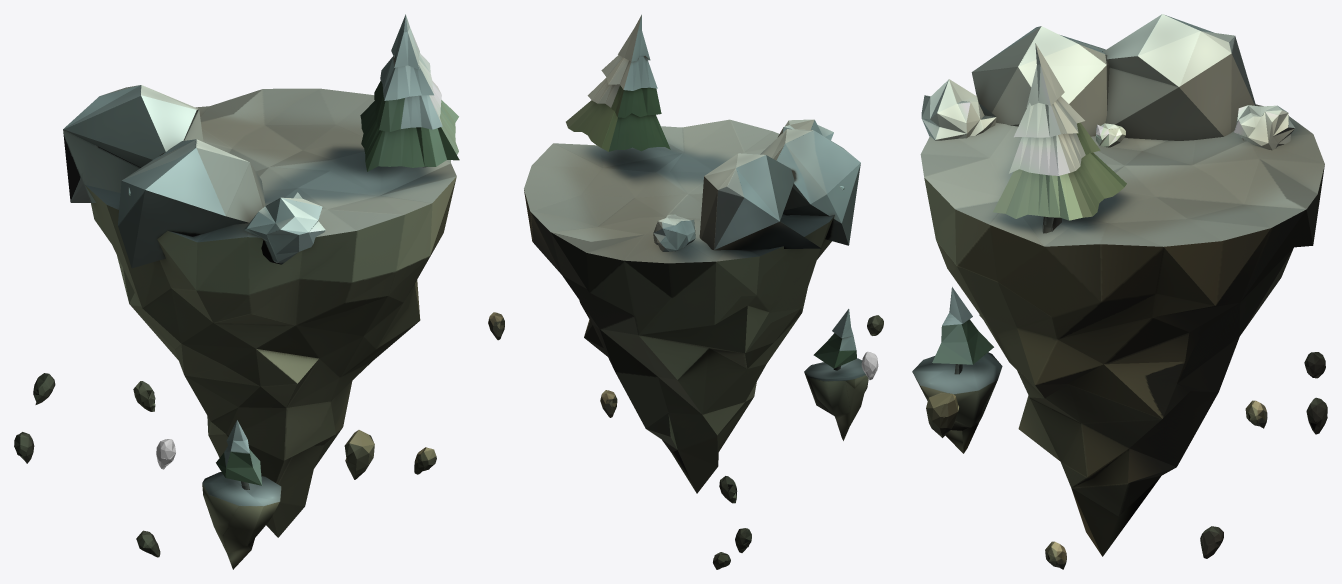
File: paperworld_platform_snow2.fbx
3 views of the same model, side by side, from view 1: azimuth 30°, elevation 25°; view 2: azimuth 150°, elevation 25°; view 3: azimuth 270°, elevation 25° (orthographic). The views are drawn at different scales.
Parts seen in each view (by area): view 1: ice2_ground, ice2_Polygon-Objekt.4, ice2_Polygon-Objekt.3, ice2_Tanne.2, ice2_ground.2, ice2_Polygon-Objekt.2, ice2_Tanne, ice2_Polygon-Objekt.15; view 2: ice2_ground, ice2_Polygon-Objekt.3, ice2_Tanne.2, ice2_Polygon-Objekt.4, ice2_ground.2, ice2_Tanne, ice2_Polygon-Objekt, ice2_Polygon-Objekt.2; view 3: ice2_ground, ice2_Polygon-Objekt.3, ice2_Tanne.2, ice2_Polygon-Objekt.4, ice2_ground.2, ice2_Polygon-Objekt.2, ice2_Tanne, ice2_Polygon-Objekt, ice2_Polygon-Objekt.15, ice2_Polygon-Objekt.5, ice2_Polygon-Objekt.9, ice2_Polygon-Objekt.10.
Boxes of the visible parts, box(x1,y1,x2,y2) form: ice2_ground: box(85, 88, 456, 537); ice2_Polygon-Objekt.4: box(117, 139, 265, 268); ice2_Polygon-Objekt.3: box(63, 85, 203, 202); ice2_Tanne.2: box(360, 14, 459, 171); ice2_ground.2: box(202, 472, 281, 569); ice2_Polygon-Objekt.2: box(244, 192, 325, 264); ice2_Tanne: box(216, 420, 262, 485); ice2_Polygon-Objekt.15: box(344, 430, 374, 479); ice2_ground: box(524, 119, 834, 493); ice2_Polygon-Objekt.3: box(699, 153, 821, 250); ice2_Tanne.2: box(566, 14, 670, 151); ice2_Polygon-Objekt.4: box(760, 129, 860, 245); ice2_ground.2: box(804, 358, 868, 440); ice2_Tanne: box(813, 309, 856, 368); ice2_Polygon-Objekt: box(653, 214, 695, 251); ice2_Polygon-Objekt.2: box(777, 119, 833, 140); ice2_ground: box(920, 104, 1324, 556); ice2_Polygon-Objekt.3: box(1103, 14, 1255, 140); ice2_Tanne.2: box(993, 43, 1126, 220); ice2_Polygon-Objekt.4: box(971, 26, 1109, 136); ice2_ground.2: box(912, 352, 1002, 453); ice2_Polygon-Objekt.2: box(921, 79, 996, 140); ice2_Tanne: box(932, 287, 993, 364); ice2_Polygon-Objekt: box(1234, 105, 1295, 150); ice2_Polygon-Objekt.15: box(926, 392, 958, 437); ice2_Polygon-Objekt.5: box(1095, 123, 1125, 147); ice2_Polygon-Objekt.9: box(1306, 397, 1327, 434); ice2_Polygon-Objekt.10: box(1200, 526, 1223, 558).
Bounding box in the file's own units: 219 × 328 × 204.
